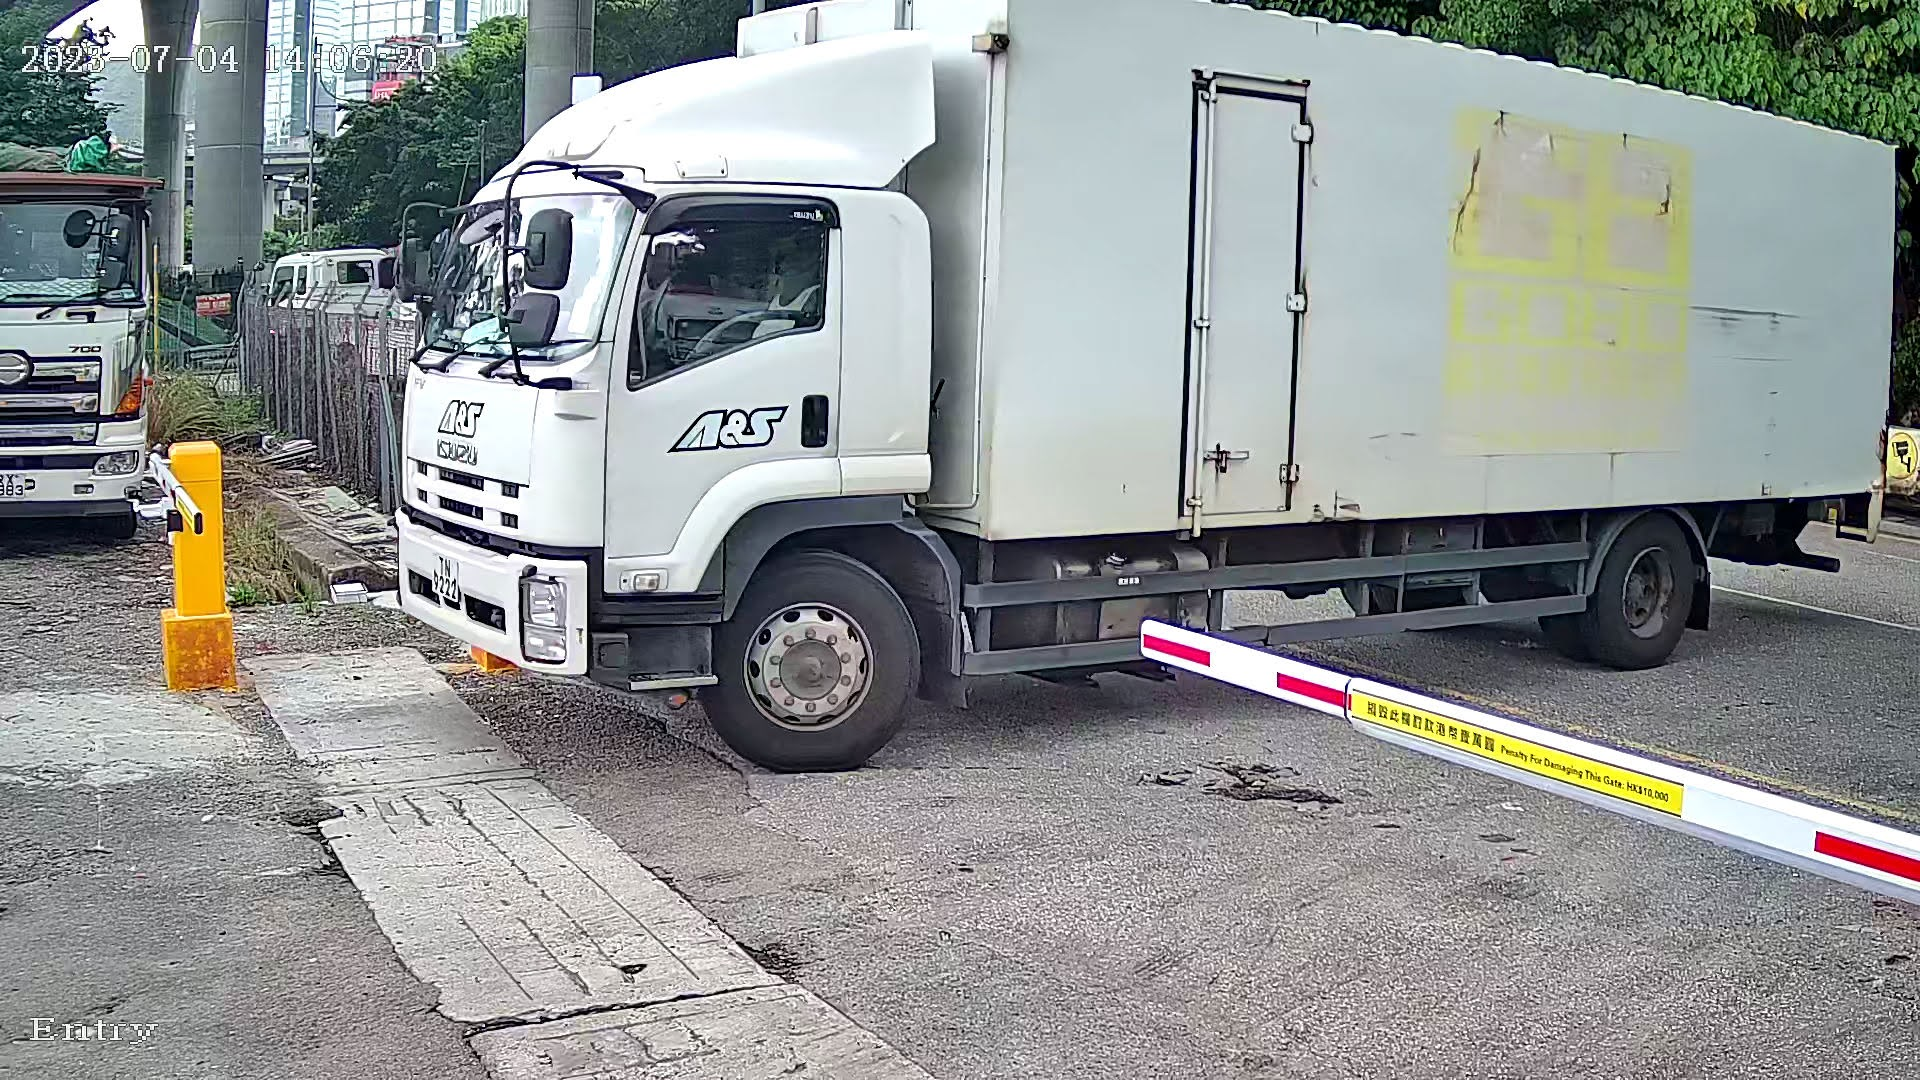truck_large: (385, 4, 1915, 791)
